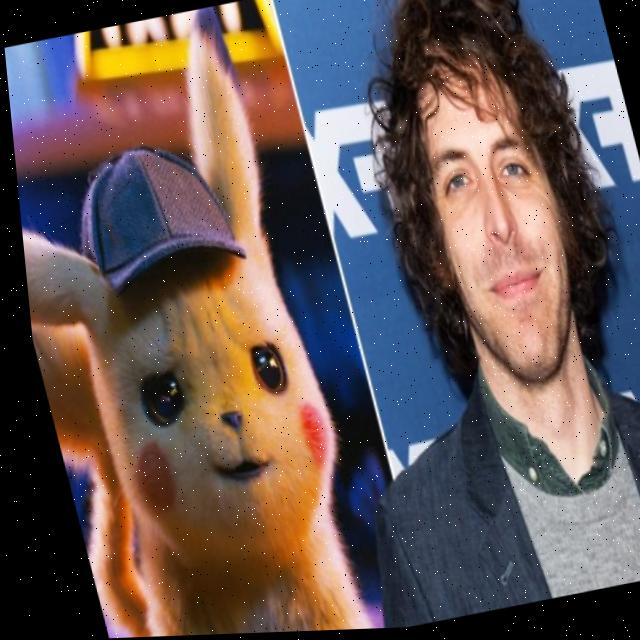Pikachu: (3, 31, 405, 640)
